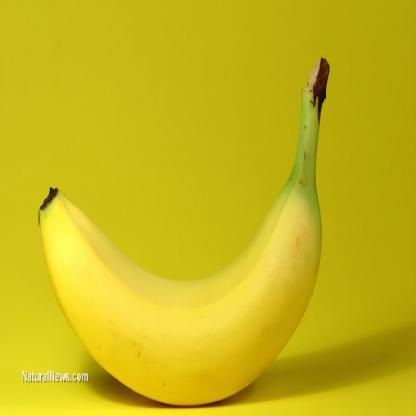banana: (34, 179, 346, 415)
